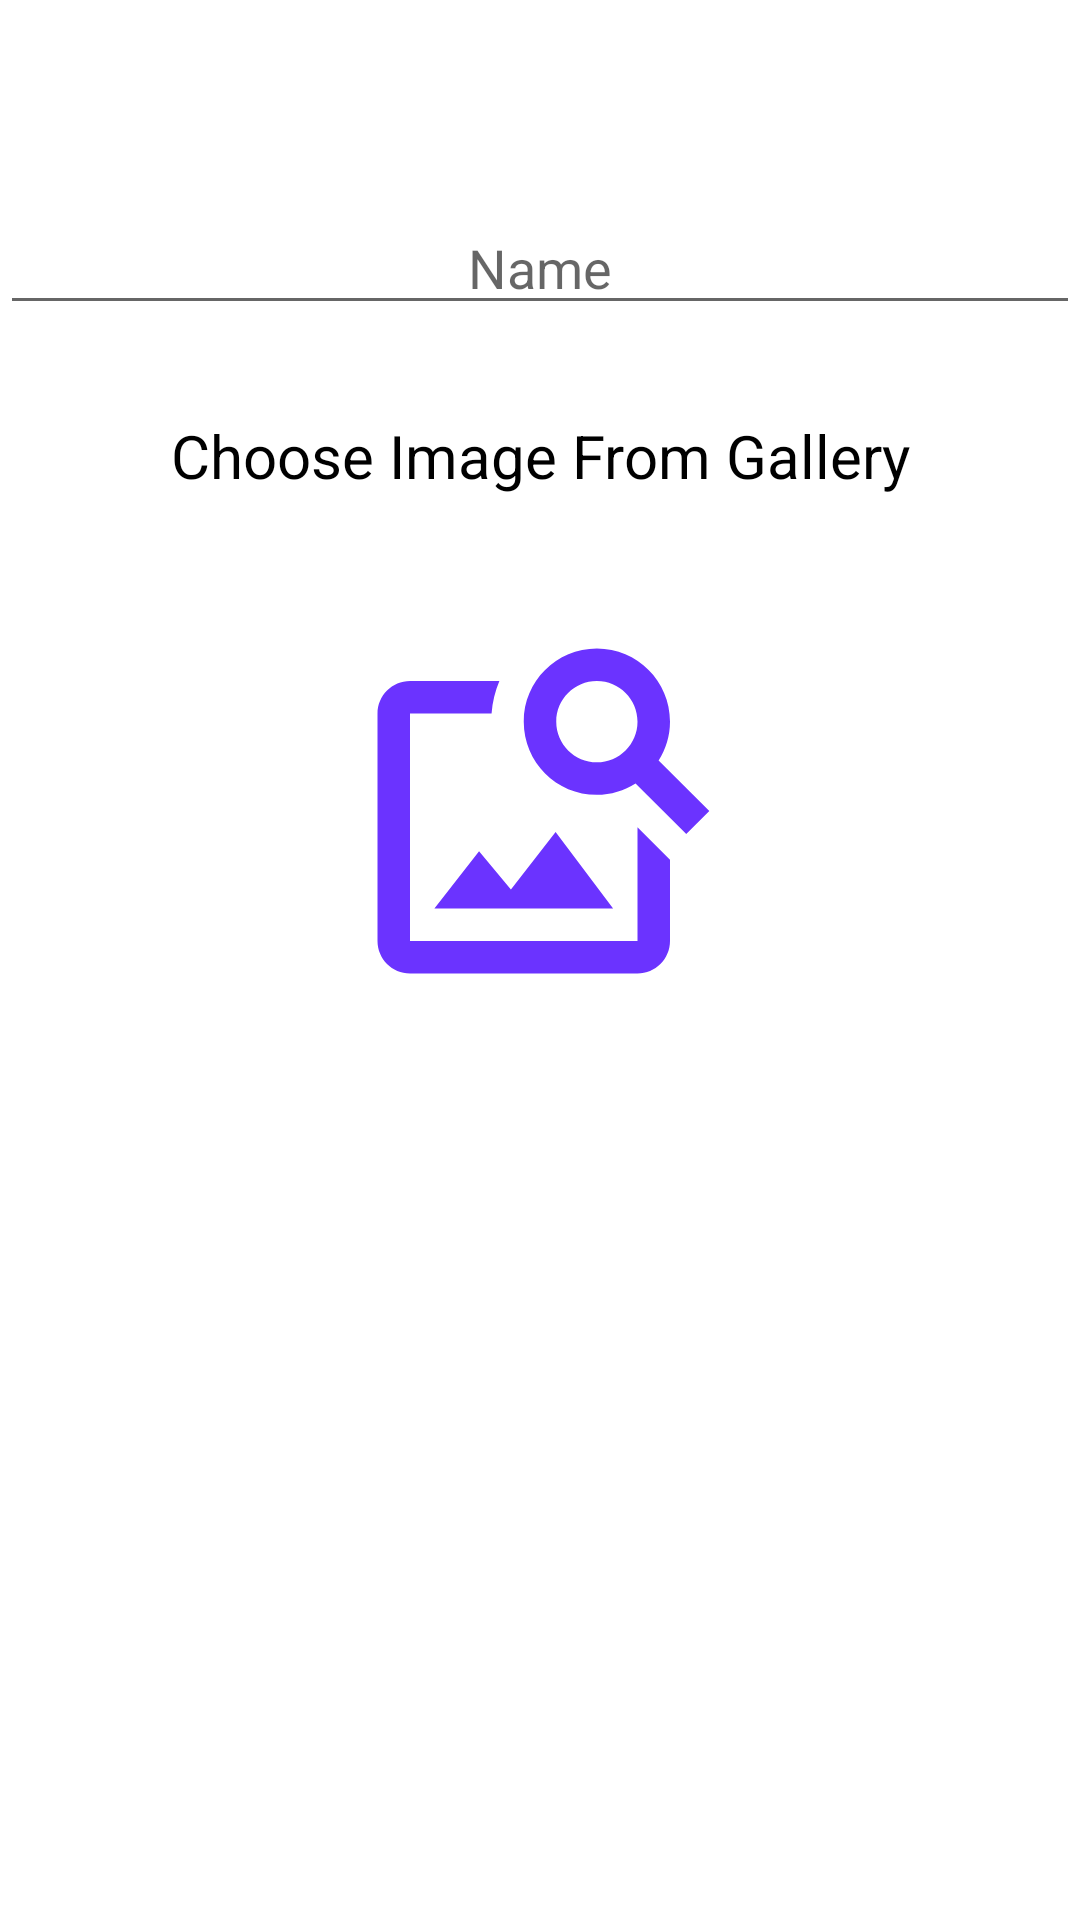

Icons on this 1080 x 1920 Android screen, each with the point to tap as [x,y]:
search: [543,811]
